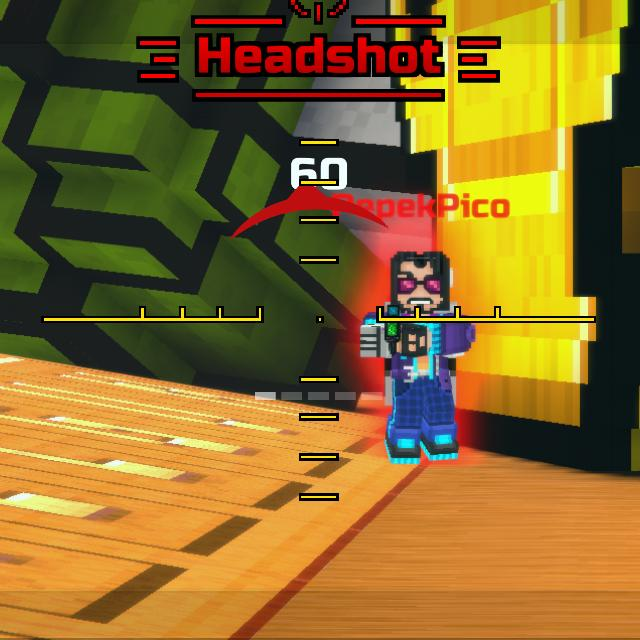Enemy: (359, 250, 477, 466)
